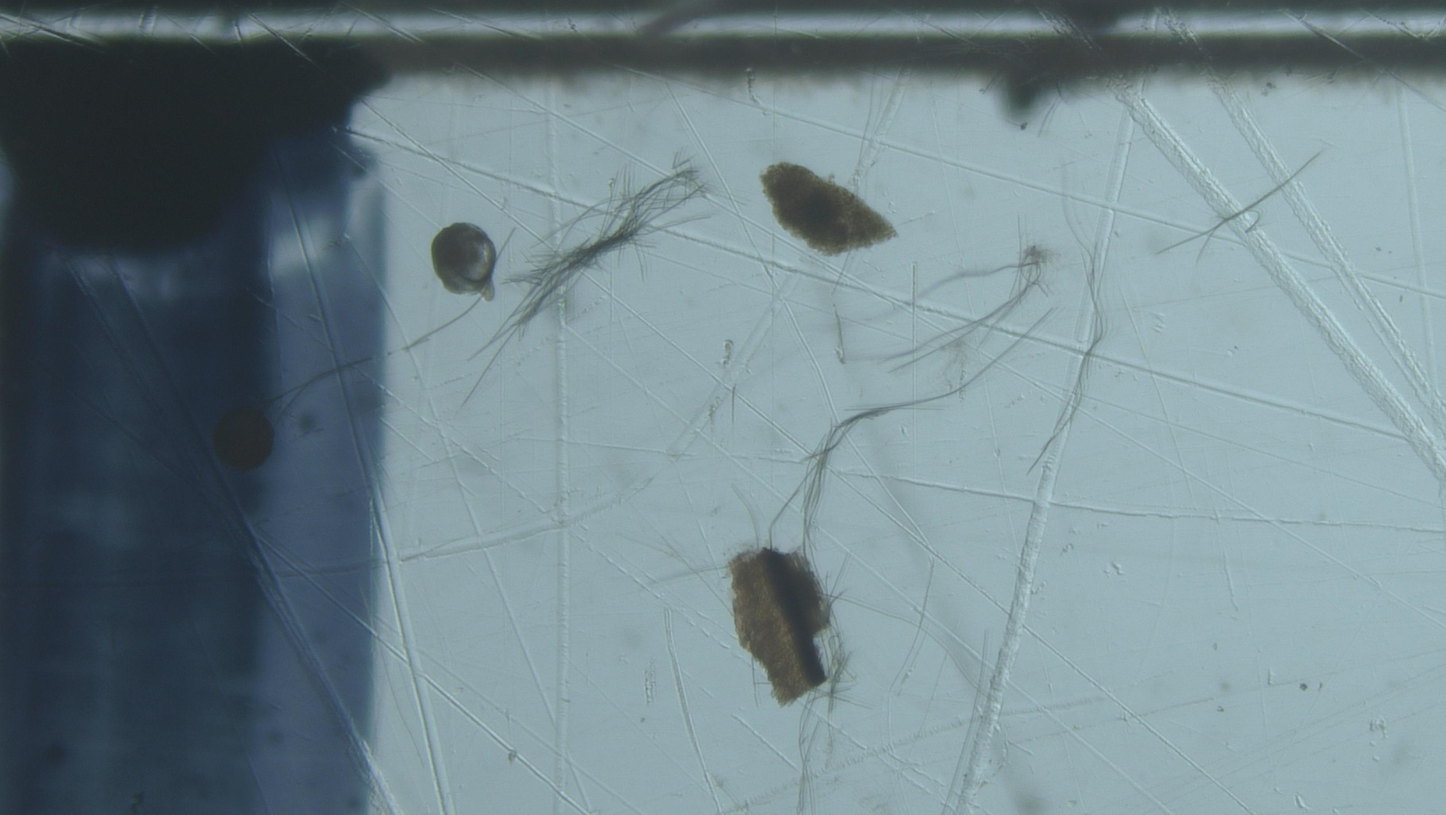live: (431, 223, 498, 301), (212, 408, 274, 471)
